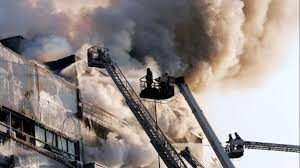smoke: (1, 1, 300, 98)
